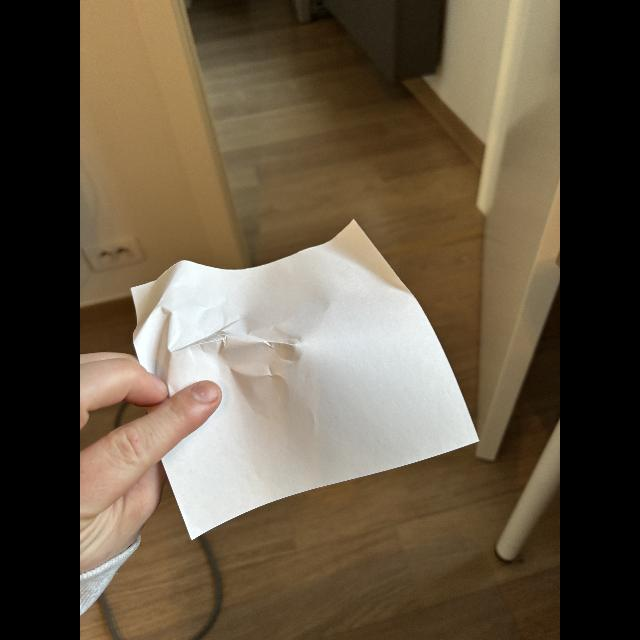Paper: (120, 218, 480, 544)
